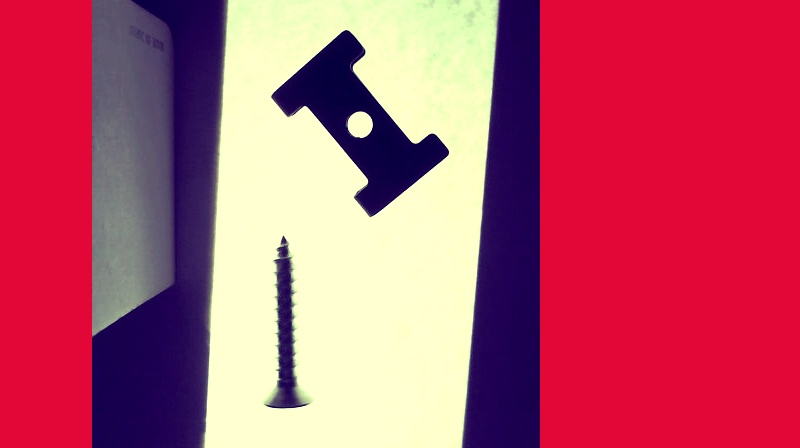O002: (269, 29, 450, 217)
S001: (256, 233, 313, 411)
